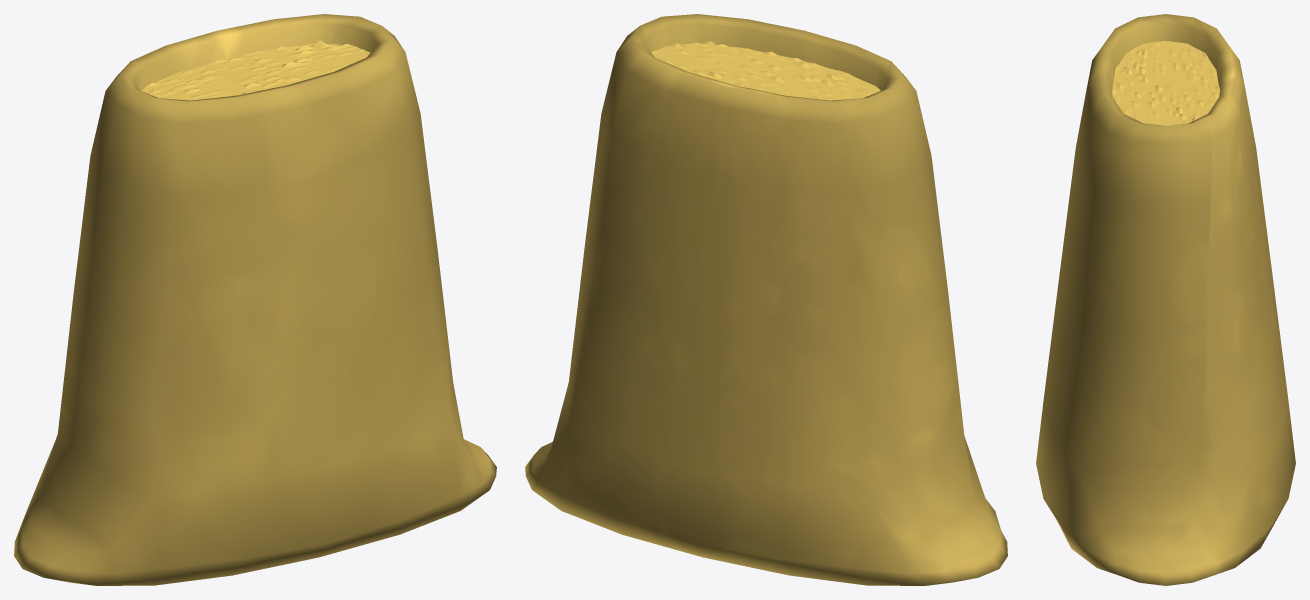
File: Seedbags.fbx
The picture shows the model from 3 angles, left to right: view 1: azimuth 30°, elevation 25°; view 2: azimuth 150°, elevation 25°; view 3: azimuth 270°, elevation 25°; orthographic projection. The views are drawn at different scales.
Visible parts, largest first — view 1: SeedBag, SeedBag.Seeds; view 2: SeedBag, SeedBag.Seeds; view 3: SeedBag, SeedBag.Seeds.
Part boxes in pixels (x1,y1,x2,y2): SeedBag: (14,14,496,585); SeedBag.Seeds: (142,40,370,100); SeedBag: (525,14,1007,585); SeedBag.Seeds: (651,41,880,100); SeedBag: (1036,14,1295,585); SeedBag.Seeds: (1111,41,1219,125).
Bounding box in the file's own units: 90.96 × 85.89 × 48.49.
